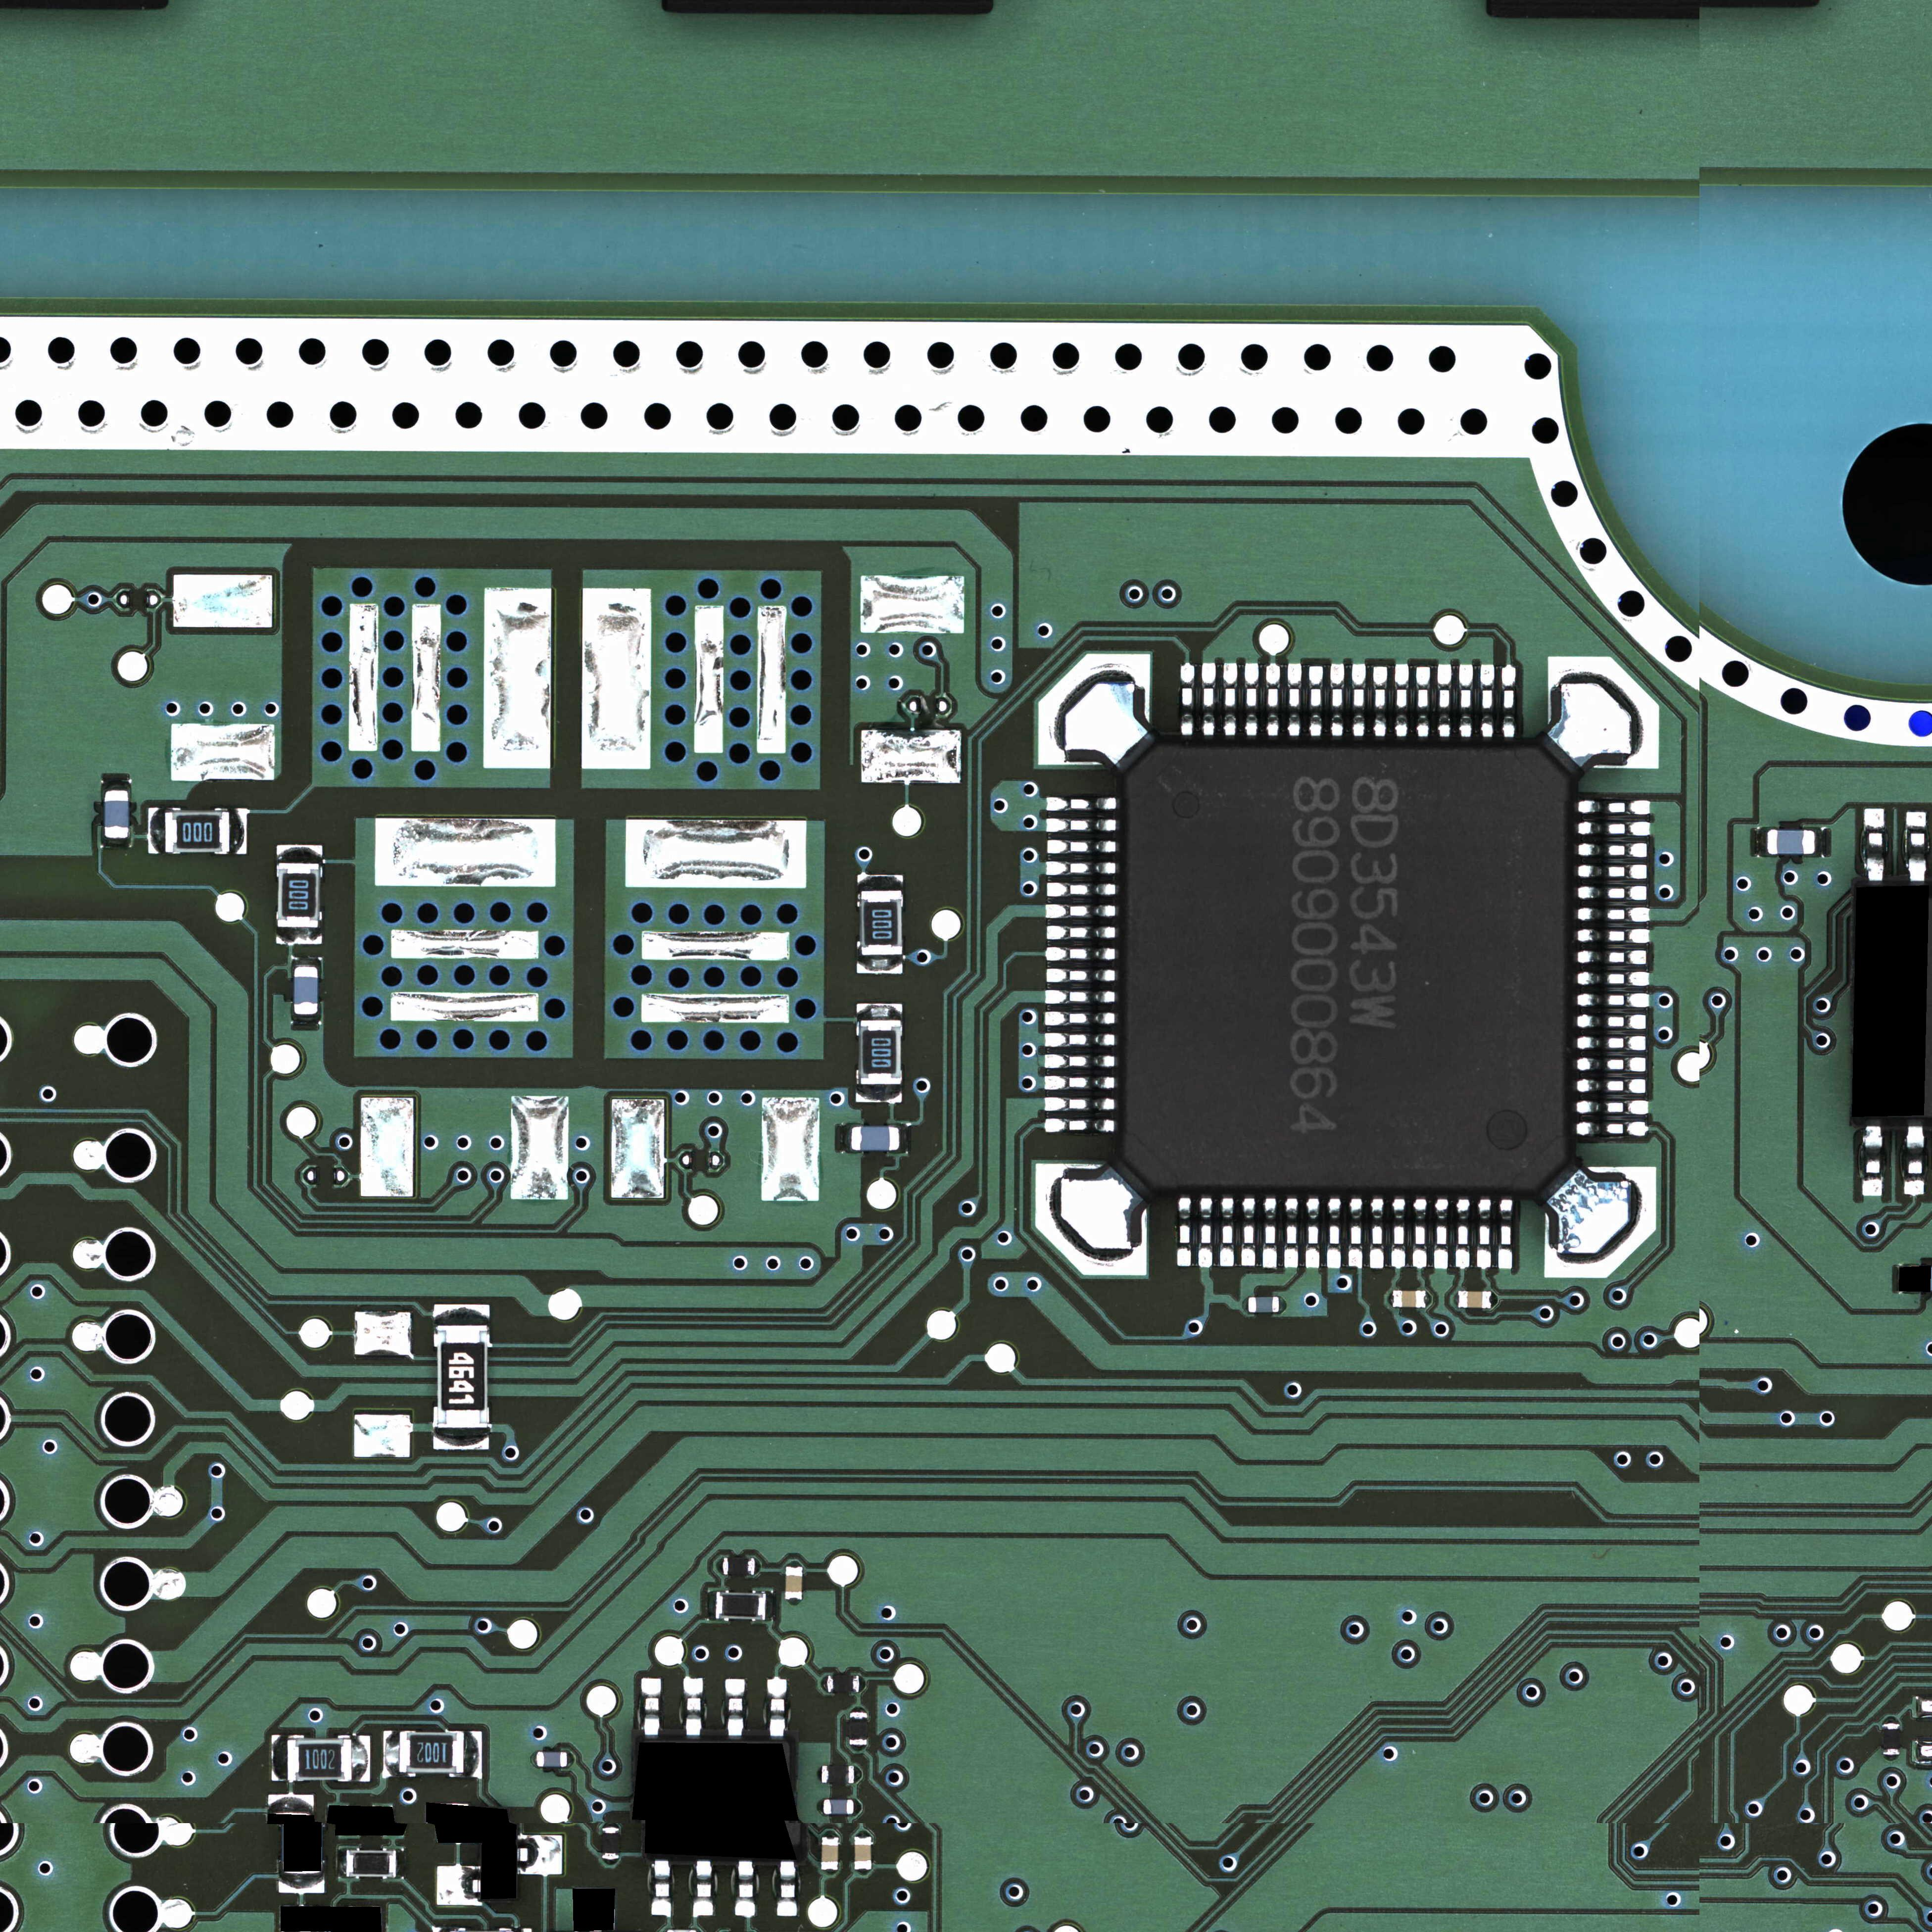Package: (1126, 746, 1567, 1190), (436, 1325, 488, 1428), (398, 1732, 464, 1773), (287, 1739, 352, 1781), (164, 812, 230, 853), (860, 1021, 901, 1085), (861, 891, 902, 956), (278, 864, 319, 927), (716, 1593, 766, 1619), (851, 1126, 900, 1151), (1767, 830, 1815, 855), (294, 966, 319, 1015), (104, 790, 129, 838), (348, 1851, 395, 1876), (849, 1712, 869, 1745), (722, 1556, 755, 1575), (827, 1673, 860, 1692), (855, 1836, 872, 1870), (603, 1827, 620, 1860), (786, 1566, 803, 1599), (821, 1837, 839, 1870), (822, 1766, 854, 1783), (1883, 1723, 1900, 1755), (1393, 1291, 1425, 1307), (1458, 1291, 1491, 1307), (823, 1799, 854, 1815), (1249, 1297, 1279, 1312), (537, 1751, 567, 1767)
Solder: (519, 1834, 562, 1876), (437, 1867, 480, 1906), (1905, 811, 1928, 882), (1864, 808, 1884, 881), (1863, 1125, 1883, 1195), (682, 1677, 705, 1737), (766, 1678, 789, 1737), (724, 1679, 746, 1738), (1906, 1124, 1925, 1195), (640, 1676, 662, 1736), (433, 1430, 490, 1451), (1575, 1121, 1649, 1138), (433, 1304, 490, 1325), (776, 1859, 797, 1915), (692, 1860, 713, 1916), (652, 1861, 673, 1917), (1576, 821, 1651, 837), (1043, 1011, 1118, 1026), (1043, 1055, 1118, 1070), (1576, 800, 1651, 815), (736, 1860, 757, 1916), (1043, 1097, 1118, 1112), (1043, 1076, 1117, 1091), (1045, 818, 1119, 833), (1045, 861, 1119, 876), (1046, 839, 1119, 855), (1575, 1035, 1648, 1051), (1045, 904, 1118, 919), (1265, 661, 1280, 739), (1043, 1033, 1118, 1048), (1394, 665, 1408, 740), (1575, 1101, 1649, 1115), (1575, 1057, 1647, 1072), (1044, 990, 1118, 1005), (1045, 797, 1119, 812), (1045, 1118, 1116, 1133), (1287, 663, 1302, 739), (1223, 662, 1237, 739), (1244, 663, 1258, 739), (1498, 1199, 1513, 1272), (1480, 664, 1495, 740), (1046, 926, 1119, 941), (1576, 950, 1649, 965), (1352, 664, 1366, 739), (1575, 994, 1651, 1008), (1501, 664, 1516, 740), (1219, 1197, 1234, 1268), (1575, 1079, 1648, 1094), (1575, 1014, 1648, 1029), (1330, 663, 1344, 738), (1576, 972, 1651, 986), (1437, 664, 1451, 739), (1348, 1198, 1363, 1270), (1308, 664, 1323, 739), (1576, 929, 1650, 943), (1576, 907, 1650, 921), (1373, 666, 1387, 740), (1415, 666, 1430, 739), (1576, 843, 1649, 858), (1045, 968, 1118, 983), (1045, 947, 1118, 962), (1305, 1198, 1320, 1271), (1202, 662, 1215, 738), (1459, 664, 1473, 739), (1262, 1197, 1277, 1270), (1370, 1198, 1384, 1271), (1477, 1199, 1491, 1271), (1434, 1199, 1449, 1271), (1046, 883, 1118, 897), (1241, 1198, 1256, 1268), (1180, 662, 1194, 737), (1284, 1198, 1298, 1270), (1576, 886, 1648, 900), (1576, 865, 1648, 879), (1198, 1197, 1212, 1268), (1413, 1198, 1427, 1270), (1392, 1198, 1405, 1270), (1456, 1199, 1470, 1271), (1328, 1198, 1341, 1272), (1178, 1197, 1192, 1268), (279, 1873, 323, 1893), (465, 1731, 482, 1779), (276, 928, 323, 945), (353, 1736, 370, 1783), (856, 1085, 902, 1103), (269, 1794, 313, 1812), (857, 957, 903, 973), (277, 845, 323, 862), (148, 808, 164, 854), (384, 1731, 399, 1779), (230, 809, 246, 854), (858, 875, 903, 890), (272, 1736, 287, 1781), (857, 1004, 902, 1019), (336, 1846, 346, 1878), (397, 1846, 407, 1879), (1756, 827, 1767, 857), (1816, 827, 1827, 858), (839, 1124, 850, 1153), (292, 956, 323, 966), (766, 1591, 775, 1621), (291, 1015, 323, 1024), (100, 839, 132, 848), (707, 1590, 716, 1620), (900, 1123, 909, 1153), (1900, 1264, 1909, 1293), (102, 781, 131, 790), (715, 1555, 724, 1575), (821, 1674, 828, 1693), (850, 1704, 868, 1713), (785, 1558, 803, 1566), (849, 1745, 868, 1752), (785, 1600, 804, 1608), (854, 1766, 861, 1784), (814, 1766, 821, 1784), (821, 1831, 839, 1837), (1491, 1291, 1498, 1308), (854, 1798, 861, 1816), (859, 1675, 866, 1692), (816, 1798, 822, 1816), (1425, 1290, 1432, 1307), (854, 1830, 872, 1836), (754, 1557, 761, 1575), (567, 1750, 573, 1768), (530, 1750, 536, 1768), (602, 1861, 621, 1867), (1280, 1297, 1286, 1313), (602, 1822, 621, 1827), (1883, 1717, 1899, 1723), (1884, 1755, 1900, 1761), (1453, 1291, 1458, 1308), (1243, 1297, 1248, 1313), (1388, 1290, 1393, 1307), (855, 1870, 872, 1874), (822, 1870, 839, 1875)
